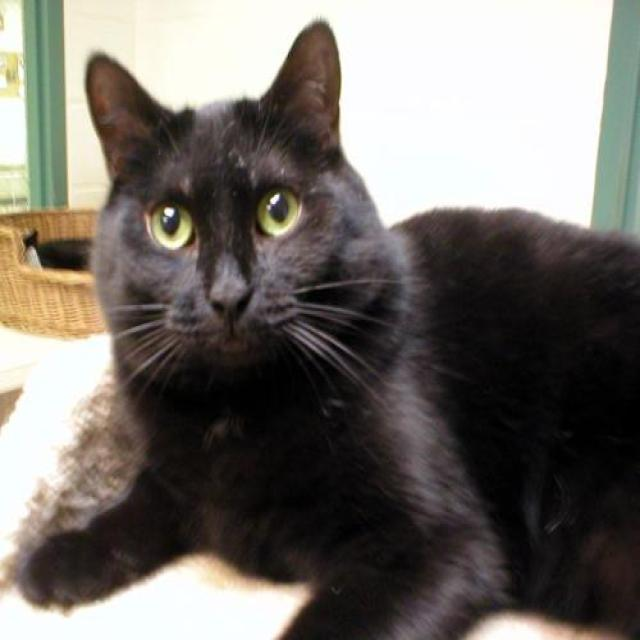Cats: (10, 16, 639, 638)
